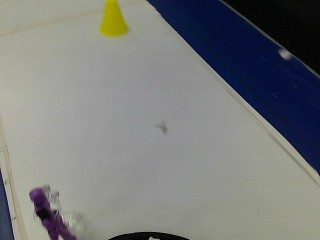cone: (94, 0, 130, 35)
